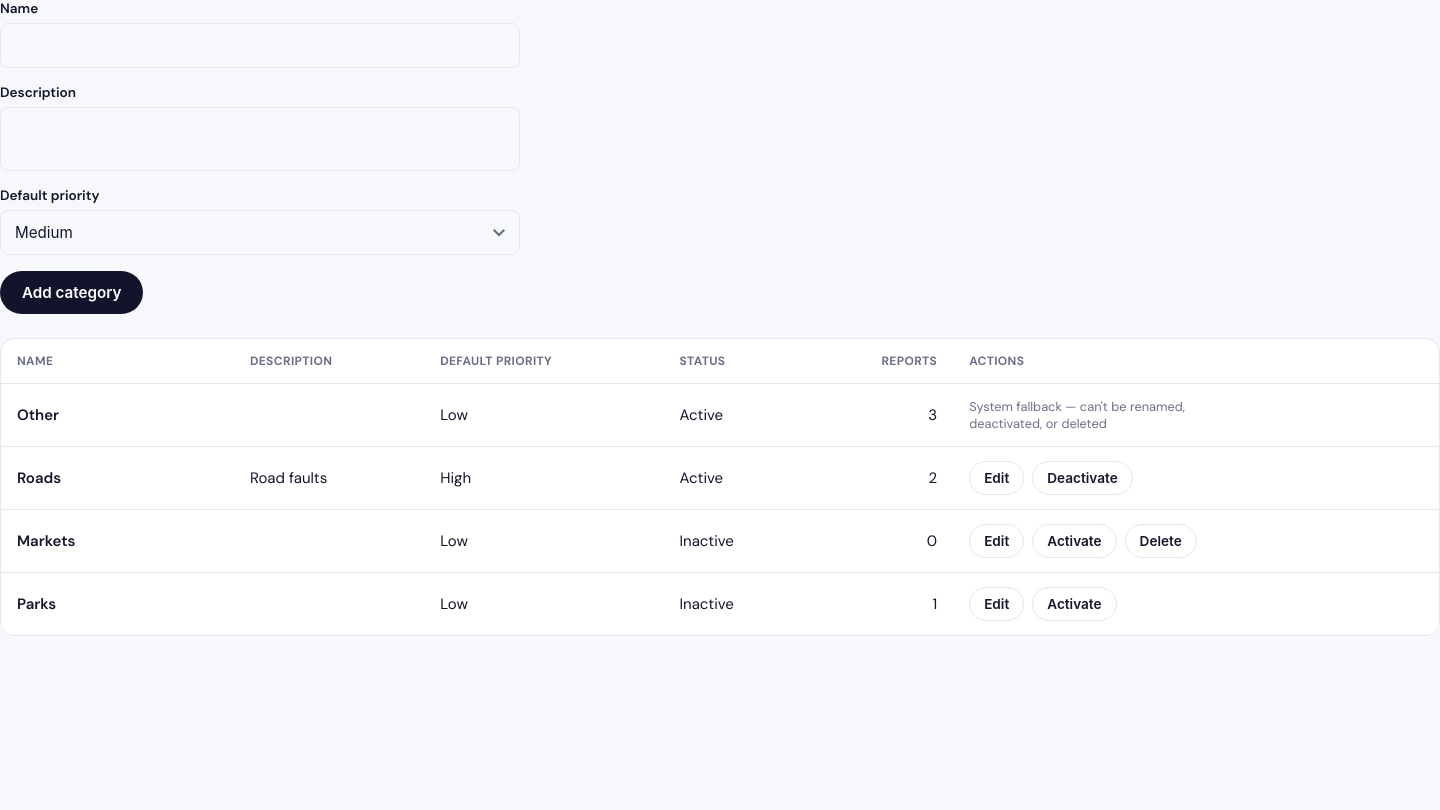
Scenario: CategoriesPage › closes the confirmation at submission so a second click cannot resend
Click the button with aria-label "Deactivate Roads".
click(1082, 478)  # box [1032,461,1133,495]
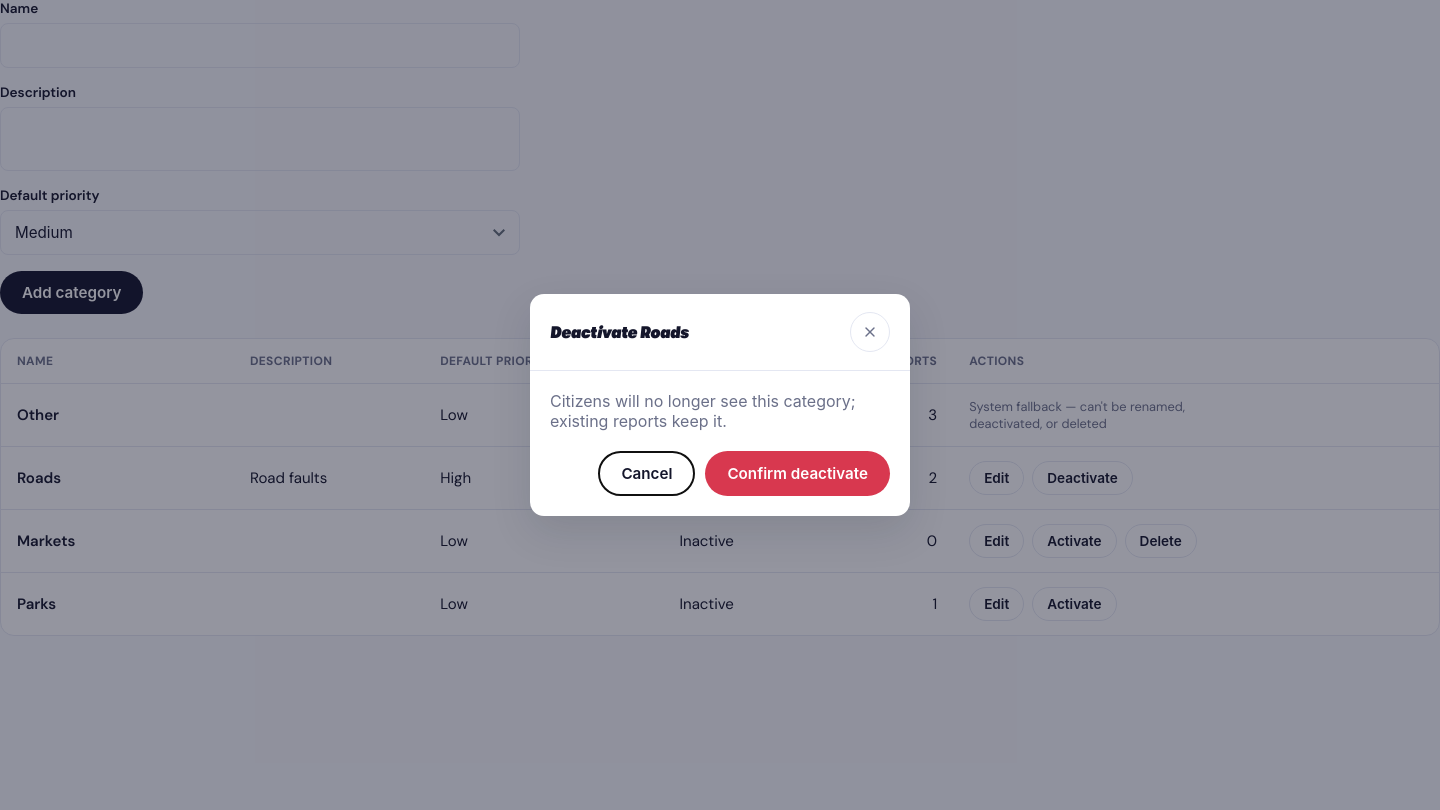
Click the button "Confirm deactivate".
click(798, 474)  # box [705,451,890,496]
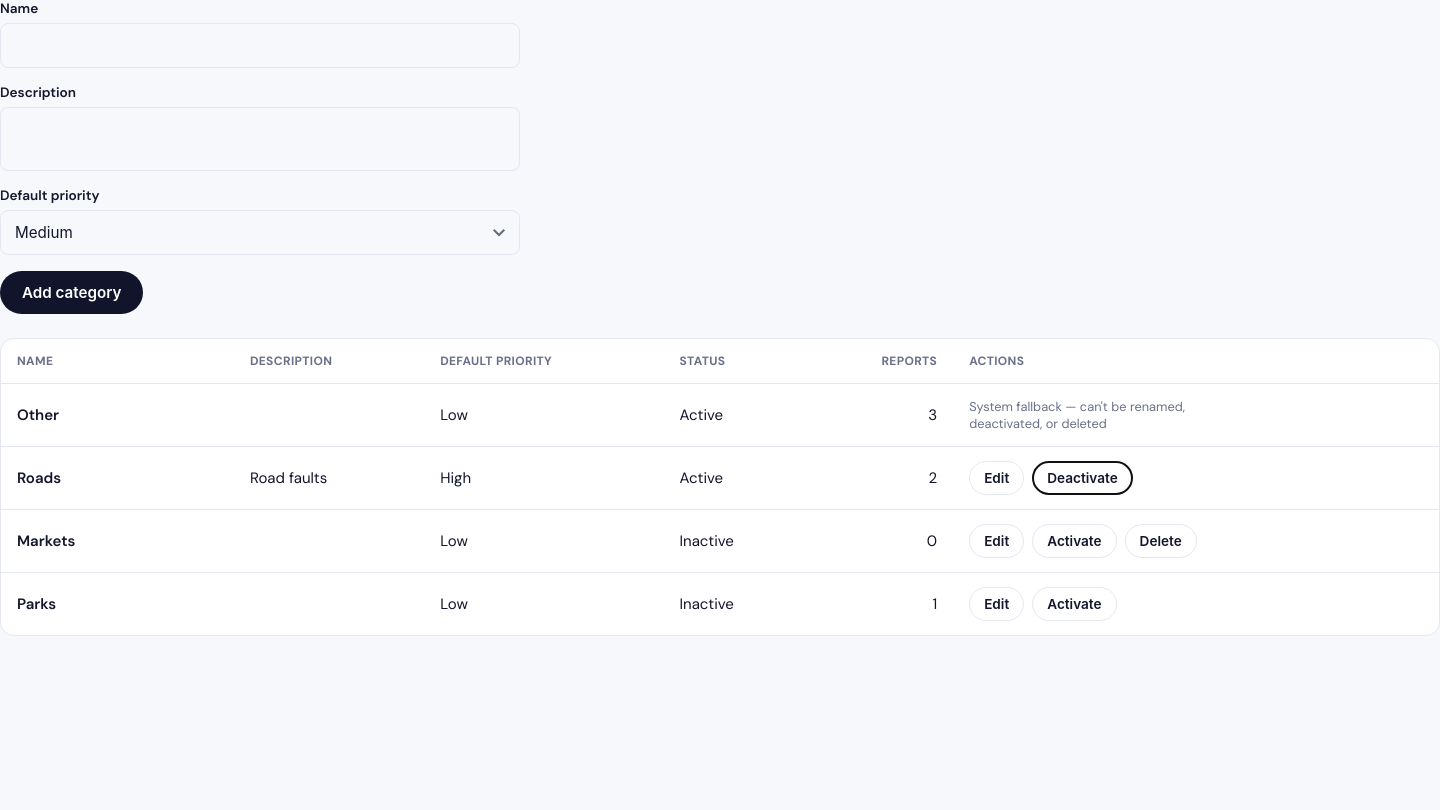
Expected: the button "Confirm deactivate" is gone
